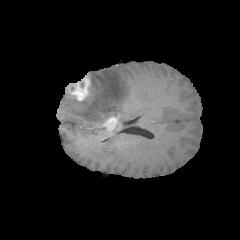glioma: (64, 68, 130, 129)
